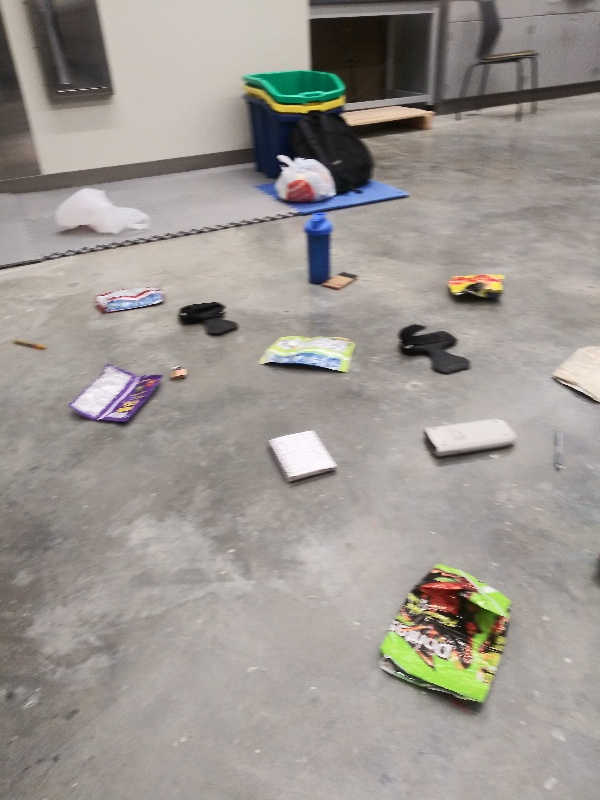bag: (371, 557, 522, 717), (66, 362, 167, 428), (256, 332, 363, 379), (544, 338, 600, 413), (88, 281, 172, 316), (439, 268, 509, 303)
